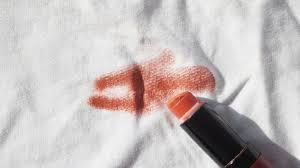kimchi: (85, 59, 219, 114)
